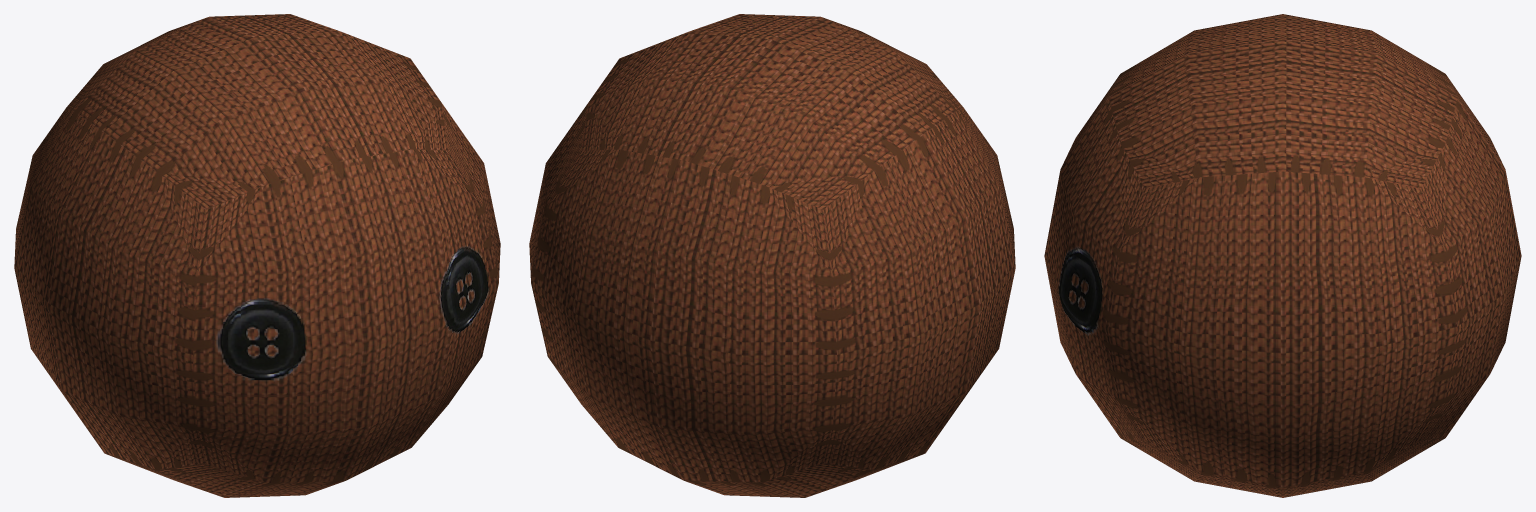
Rendered from character.fbx.
3 renders of one model, left to right at view 1: azimuth 30°, elevation 25°; view 2: azimuth 150°, elevation 25°; view 3: azimuth 270°, elevation 25°, orthographic.
Parts seen in each view (by area): view 1: character; view 2: character; view 3: character.
Part boxes in pixels (left/top/right/bottom): character: left=14, top=14, right=500, bottom=497; character: left=529, top=14, right=1015, bottom=497; character: left=1044, top=14, right=1521, bottom=497.
Size of the model in its own units: 176 by 176 by 176.
1 material, 1 textured.
